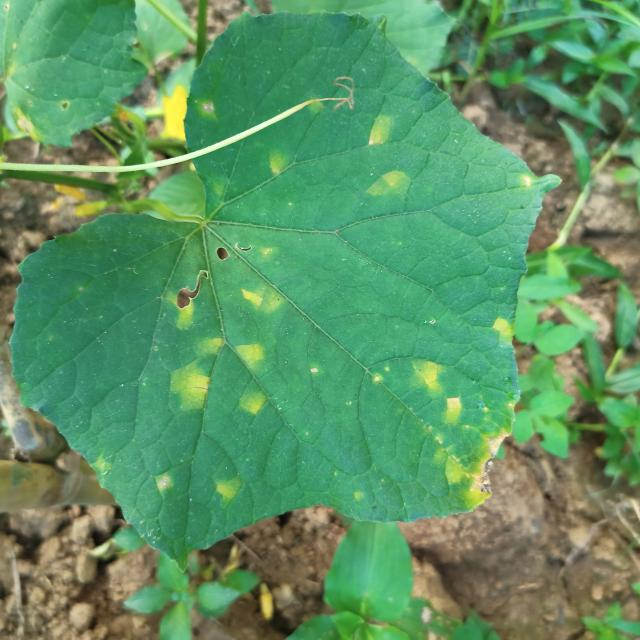disease_cucumber: (153, 242, 286, 445), (400, 359, 514, 511), (359, 102, 411, 209), (256, 132, 296, 192), (210, 471, 244, 512), (487, 315, 520, 351)
